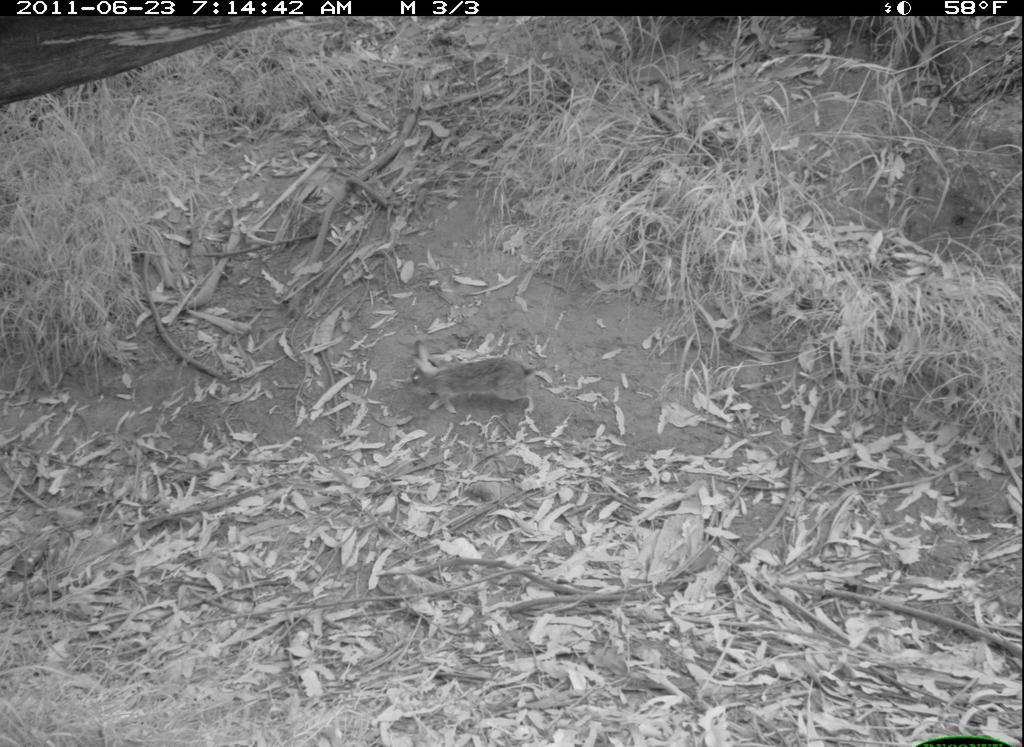rabbit: (402, 337, 538, 417)
